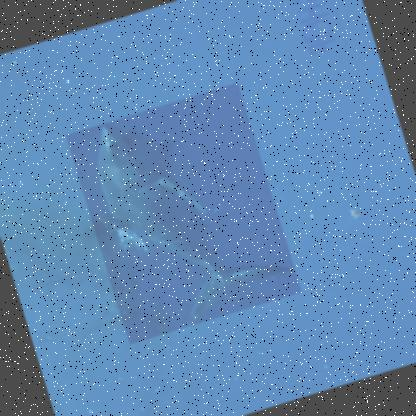mako-shark: (64, 82, 302, 345)
